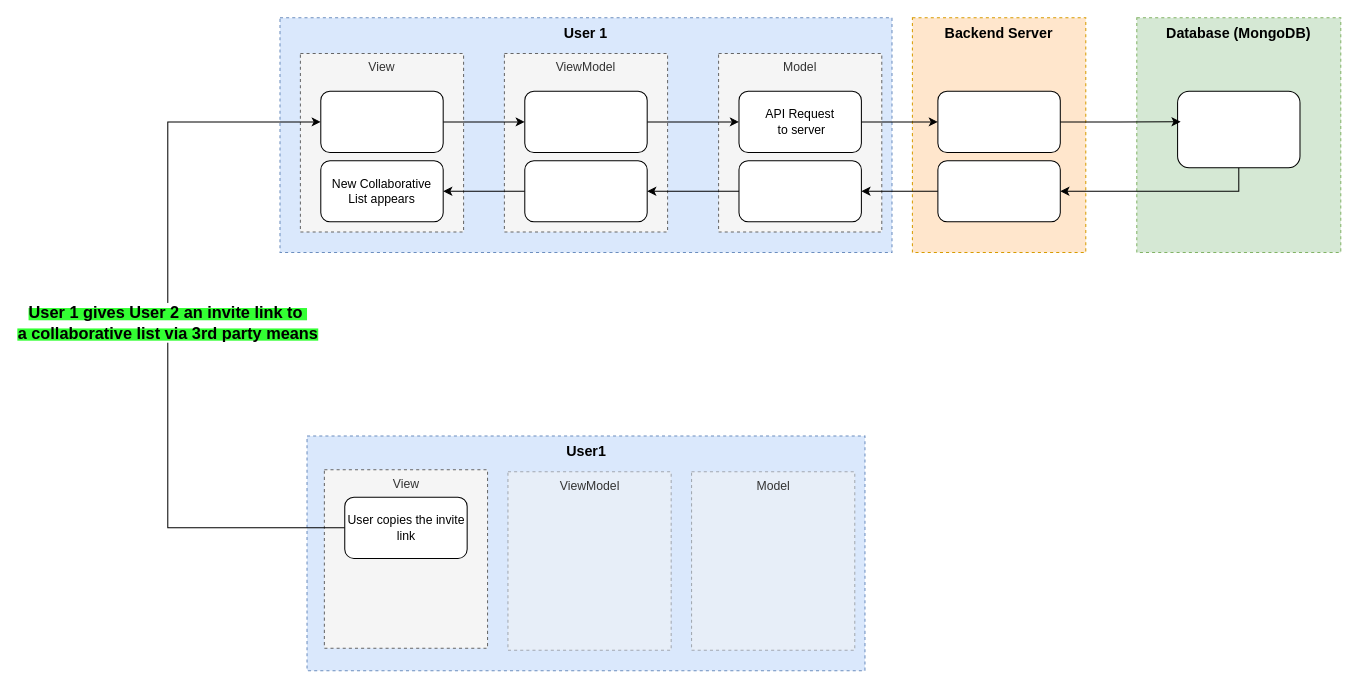
Some shapes in this 1359 by 689 pixel diagram are drawn without their labels. The shapes that lost their labels are listed below. From the top down, each one's centre as x and y in pixels, then its label:
At point (381, 121): "User enters the invite code into the field".
At point (585, 121): "Prepares the request".
At point (998, 121): "Processes the request".
At point (1238, 129): "Adds the new member to the respective collaborative list".
At point (585, 191): "Update the state that is reponsible for the collaborative lists".
At point (799, 191): "API Request Response".
At point (998, 191): "Let the client know he has been added to the collaborative list".
